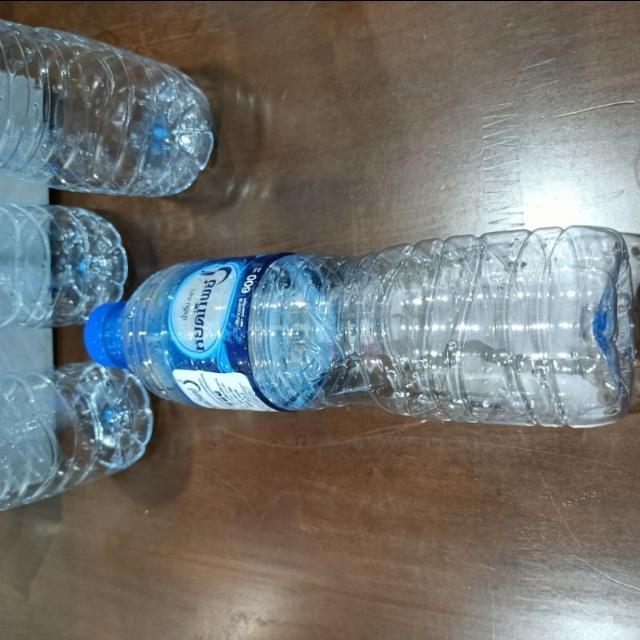PET Bottle: (49, 225, 640, 460), (0, 0, 315, 225), (0, 350, 170, 516), (0, 201, 138, 326)
